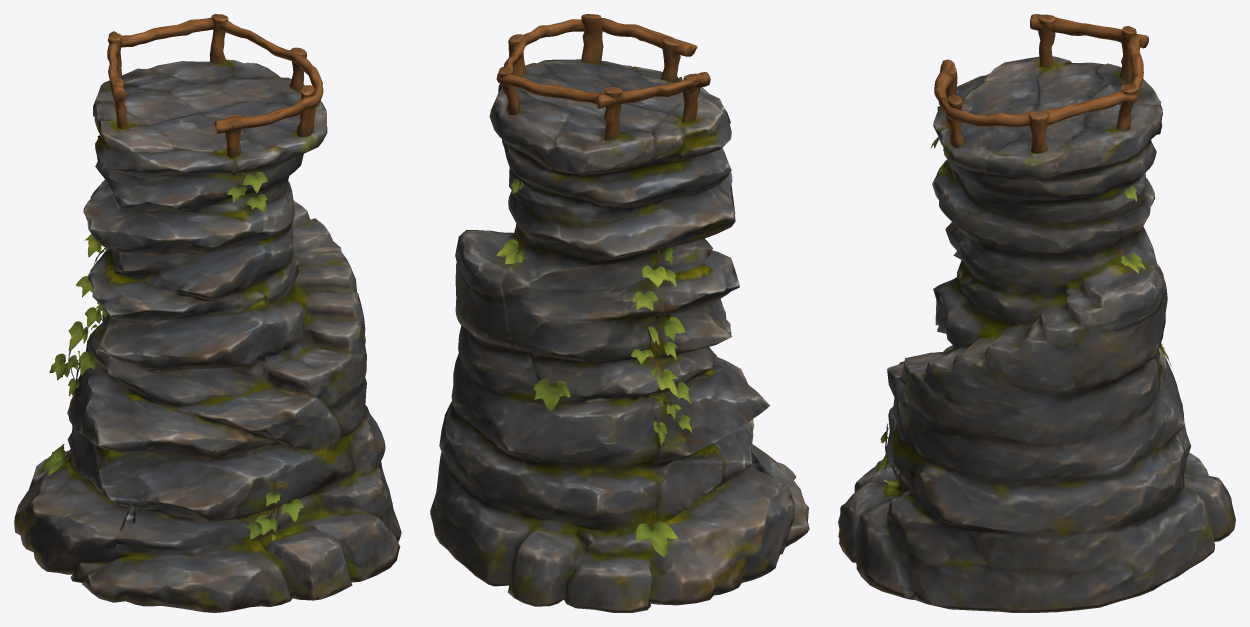
The model's file is lookout.glb.
3 renders of one model, left to right at view 1: azimuth 30°, elevation 25°; view 2: azimuth 150°, elevation 25°; view 3: azimuth 270°, elevation 25°, orthographic. The views are drawn at different scales.
Parts seen in each view (by area): view 1: geometry_0; view 2: geometry_0; view 3: geometry_0.
Boxes of the visible parts, box(x1,y1,x2,y2) form: geometry_0: box(14, 14, 401, 612); geometry_0: box(430, 14, 809, 612); geometry_0: box(838, 14, 1235, 612).
Bounding box in the file's own units: 0.6689 × 0.9492 × 0.709.
1 material, 1 textured.
